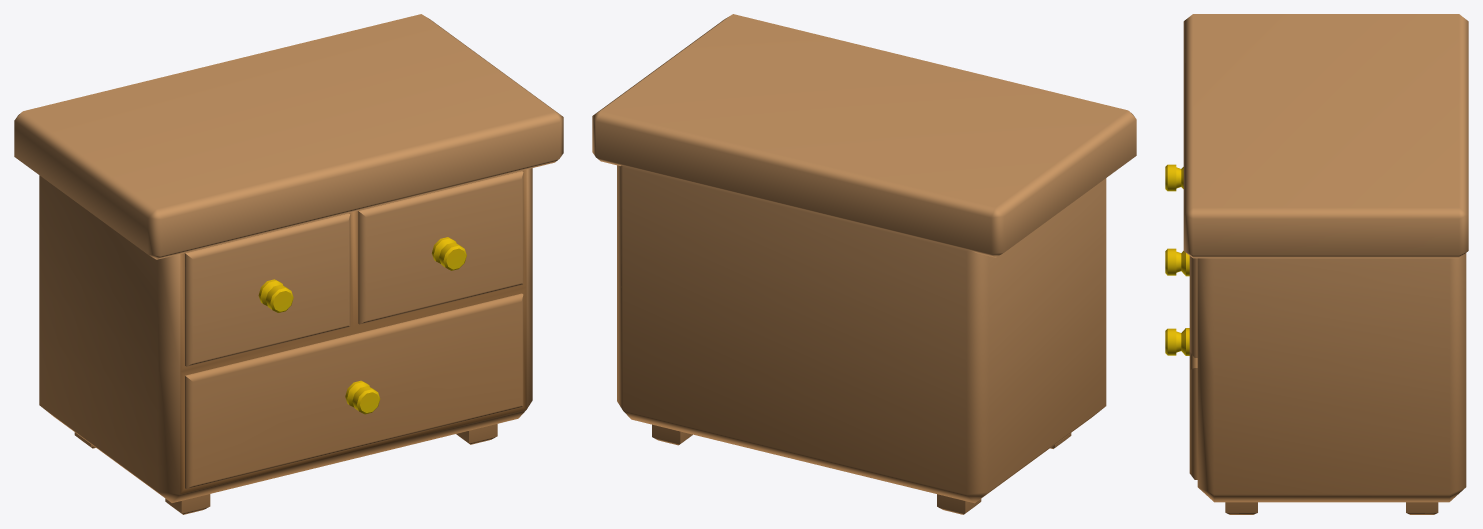
File: Wardrobe_13.glb
3 renders of one model, left to right at view 1: azimuth 30°, elevation 25°; view 2: azimuth 150°, elevation 25°; view 3: azimuth 270°, elevation 25°, orthographic.
Parts seen in each view (by area): view 1: Wardrobe_13, Wardrobe_13 Door_3, Wardrobe_13 Door_1, Wardrobe_13 Door_2; view 2: Wardrobe_13; view 3: Wardrobe_13, Wardrobe_13 Door_3, Wardrobe_13 Door_2, Wardrobe_13 Door_1.
Part boxes in pixels (bbox=[...]): Wardrobe_13: bbox=[14, 14, 563, 514]; Wardrobe_13 Door_3: bbox=[185, 293, 523, 489]; Wardrobe_13 Door_1: bbox=[185, 213, 350, 366]; Wardrobe_13 Door_2: bbox=[358, 171, 523, 324]; Wardrobe_13: bbox=[592, 14, 1136, 514]; Wardrobe_13: bbox=[1183, 14, 1468, 514]; Wardrobe_13 Door_3: bbox=[1165, 328, 1197, 479]; Wardrobe_13 Door_2: bbox=[1165, 248, 1197, 357]; Wardrobe_13 Door_1: bbox=[1165, 164, 1183, 191].
Bounding box in the file's own units: 0.8161 × 0.6203 × 0.5174.
1 material, 1 textured.
